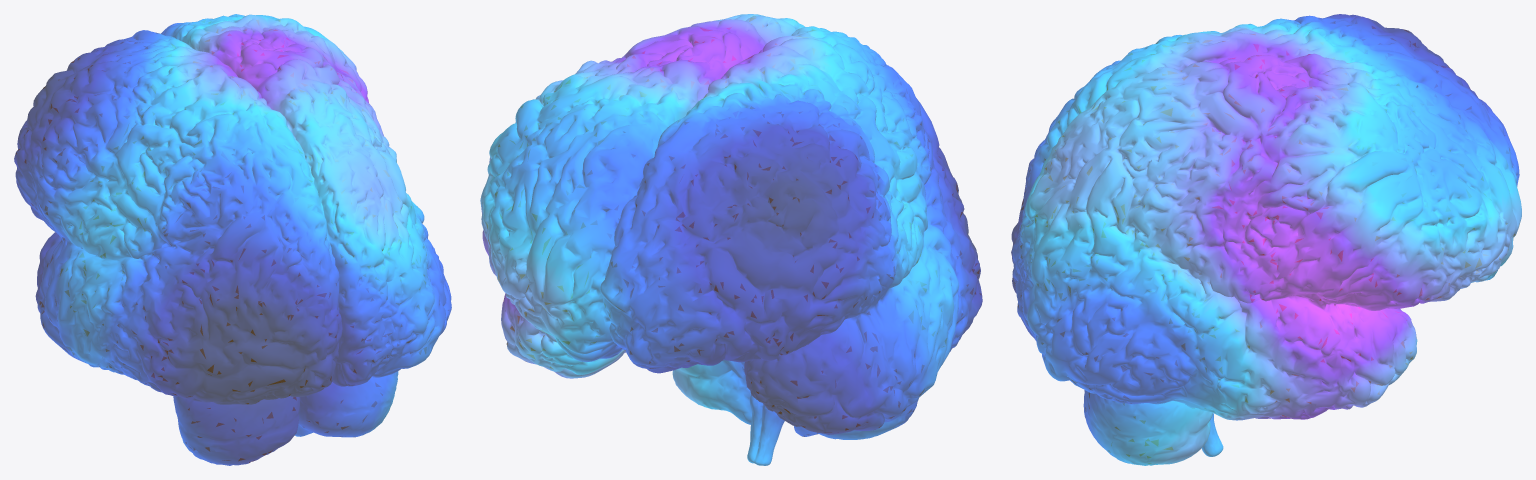
The model's file is brain.glb.
The picture shows the model from 3 angles, left to right: view 1: azimuth 30°, elevation 25°; view 2: azimuth 150°, elevation 25°; view 3: azimuth 270°, elevation 25°; orthographic projection. The views are drawn at different scales.
Parts seen in each view (by area): view 1: Neon Brain; view 2: Neon Brain; view 3: Neon Brain.
Boxes of the visible parts, bbox=[...] form: Neon Brain: bbox=[14, 14, 451, 465]; Neon Brain: bbox=[480, 14, 982, 465]; Neon Brain: bbox=[1011, 14, 1521, 465].
Size of the model in its own units: 2.59 by 2.77 by 3.13.
